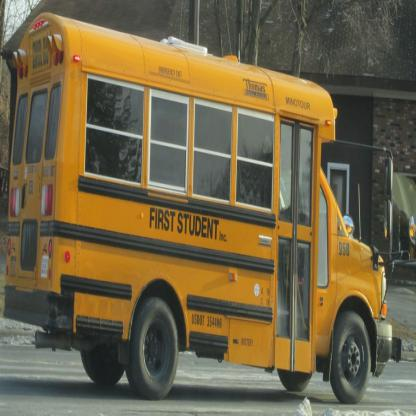Bus: (2, 10, 402, 405)
